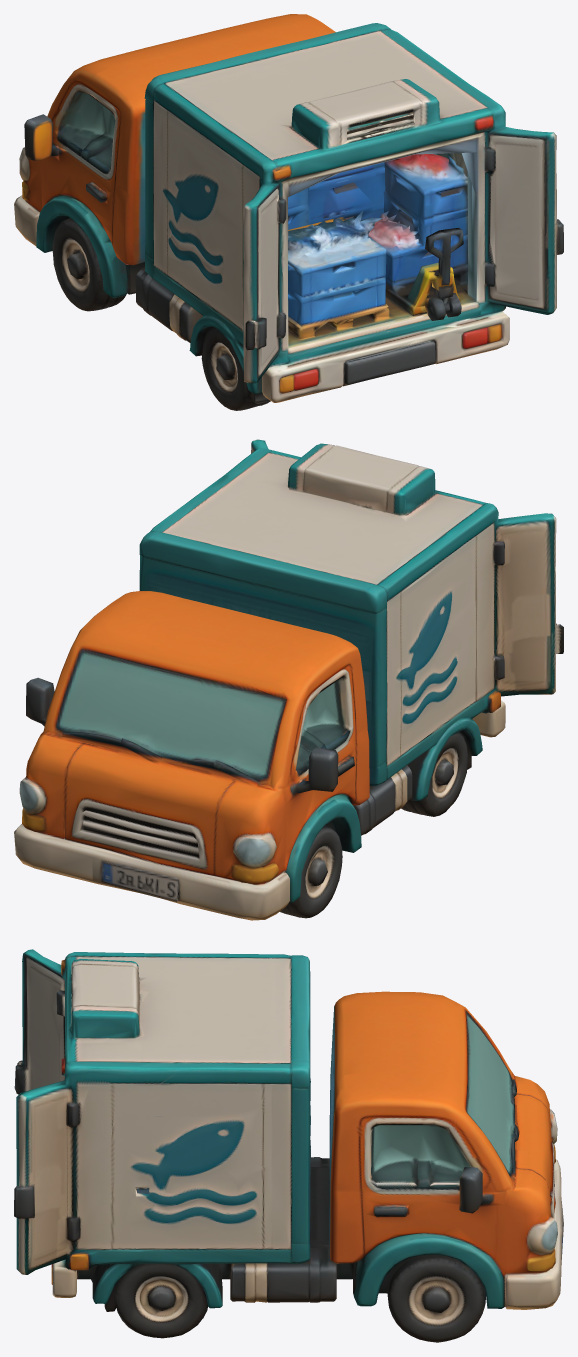
File: FishDeliveryTruck.fbx
3 views of the same model, one above another, from view 1: azimuth 30°, elevation 25°; view 2: azimuth 150°, elevation 25°; view 3: azimuth 270°, elevation 25° (orthographic).
Visible parts, largest first — view 1: tripo_node_729a35ce-0622-41e8-bbaa-a001508ad1f3; view 2: tripo_node_729a35ce-0622-41e8-bbaa-a001508ad1f3; view 3: tripo_node_729a35ce-0622-41e8-bbaa-a001508ad1f3.
Boxes of the visible parts, x1,y1,x2,y2 form: tripo_node_729a35ce-0622-41e8-bbaa-a001508ad1f3: (14,14,563,410); tripo_node_729a35ce-0622-41e8-bbaa-a001508ad1f3: (14,439,563,920); tripo_node_729a35ce-0622-41e8-bbaa-a001508ad1f3: (14,949,563,1342).
Bounding box in the file's own units: 64.85 × 59.21 × 97.9.
1 material, 1 textured.
